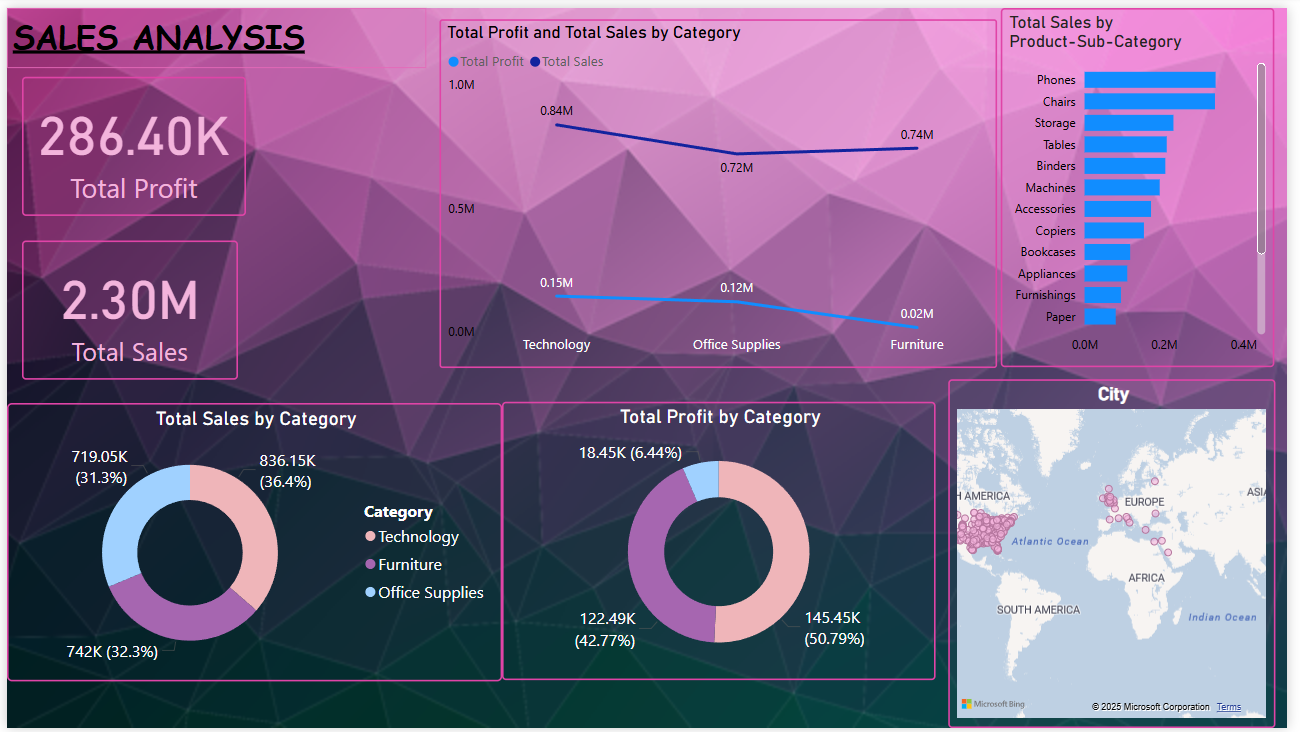

The page's visual inventory and layout, read from the dashboard file:
{"tool":"powerbi","page":{"name":"Page 1","canvas":[1280,720],"ordinal":0},"visuals":[{"type":"card","fields":{"Values":["SampleSuperstore.Total Profit"]},"box":[15.6,69,223.7,139.1],"z":0},{"type":"card","fields":{"Values":["SampleSuperstore.Total Sales"]},"box":[15.6,232.7,216,139.1],"z":1000},{"type":"lineChart","fields":{"Category":["SampleSuperstore.Category"],"Y":["SampleSuperstore.Total Profit","SampleSuperstore.Total Sales"]},"box":[433,11.1,557.7,348.4],"z":2000},{"type":"barChart","fields":{"Y":["SampleSuperstore.Total Sales"],"Category":["SampleSuperstore.Product-Sub-Category"]},"box":[994.1,0,273.8,359.6],"z":3000},{"type":"donutChart","fields":{"Category":["SampleSuperstore.Category"],"Y":["SampleSuperstore.Total Sales"]},"box":[0,395.2,495.4,278.3],"z":4000},{"type":"donutChart","fields":{"Category":["SampleSuperstore.Category"],"Y":["SampleSuperstore.Total Profit"]},"box":[495.4,395.2,433,278.3],"z":5000},{"type":"map","fields":{"Category":["SampleSuperstore.City"]},"box":[940.9,371.4,327.5,348.8],"z":6000},{"type":"textbox","box":[0,0,419.4,59.9],"z":6001}]}

Visuals, with their boxes in screenshot pixels (x1, y1, x2, y2), scaled from the page's 1280x720 canvas onto the 1300x732 screenshot:
card - SampleSuperstore.Total Profit: x1=16 y1=70 x2=243 y2=212
card - SampleSuperstore.Total Sales: x1=16 y1=237 x2=235 y2=378
lineChart - SampleSuperstore.Category x SampleSuperstore.Total Profit: x1=440 y1=11 x2=1006 y2=365
barChart - SampleSuperstore.Total Sales x SampleSuperstore.Product-Sub-Category: x1=1010 y1=0 x2=1288 y2=366
donutChart - SampleSuperstore.Category x SampleSuperstore.Total Sales: x1=0 y1=402 x2=503 y2=685
donutChart - SampleSuperstore.Category x SampleSuperstore.Total Profit: x1=503 y1=402 x2=943 y2=685
map - SampleSuperstore.City: x1=956 y1=378 x2=1288 y2=731
textbox: x1=0 y1=0 x2=426 y2=61
